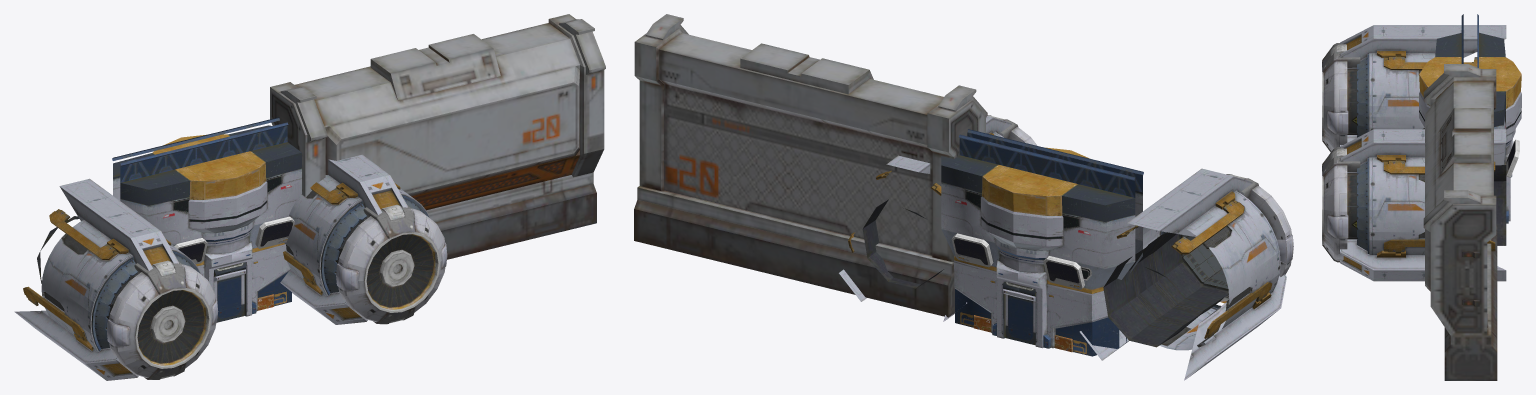
File: Demo_jidi.FBX
The picture shows the model from 3 angles, left to right: view 1: azimuth 30°, elevation 25°; view 2: azimuth 150°, elevation 25°; view 3: azimuth 270°, elevation 25°; orthographic projection. The views are drawn at different scales.
Parts seen in each view (by area): view 1: Demo_jidi; view 2: Demo_jidi; view 3: Demo_jidi.
Part boxes in pixels (x1,y1,x2,y2): Demo_jidi: (14,14,605,380); Demo_jidi: (634,14,1293,380); Demo_jidi: (1322,14,1521,380).
Bounding box in the file's own units: 57.38 × 19.48 × 19.27.
